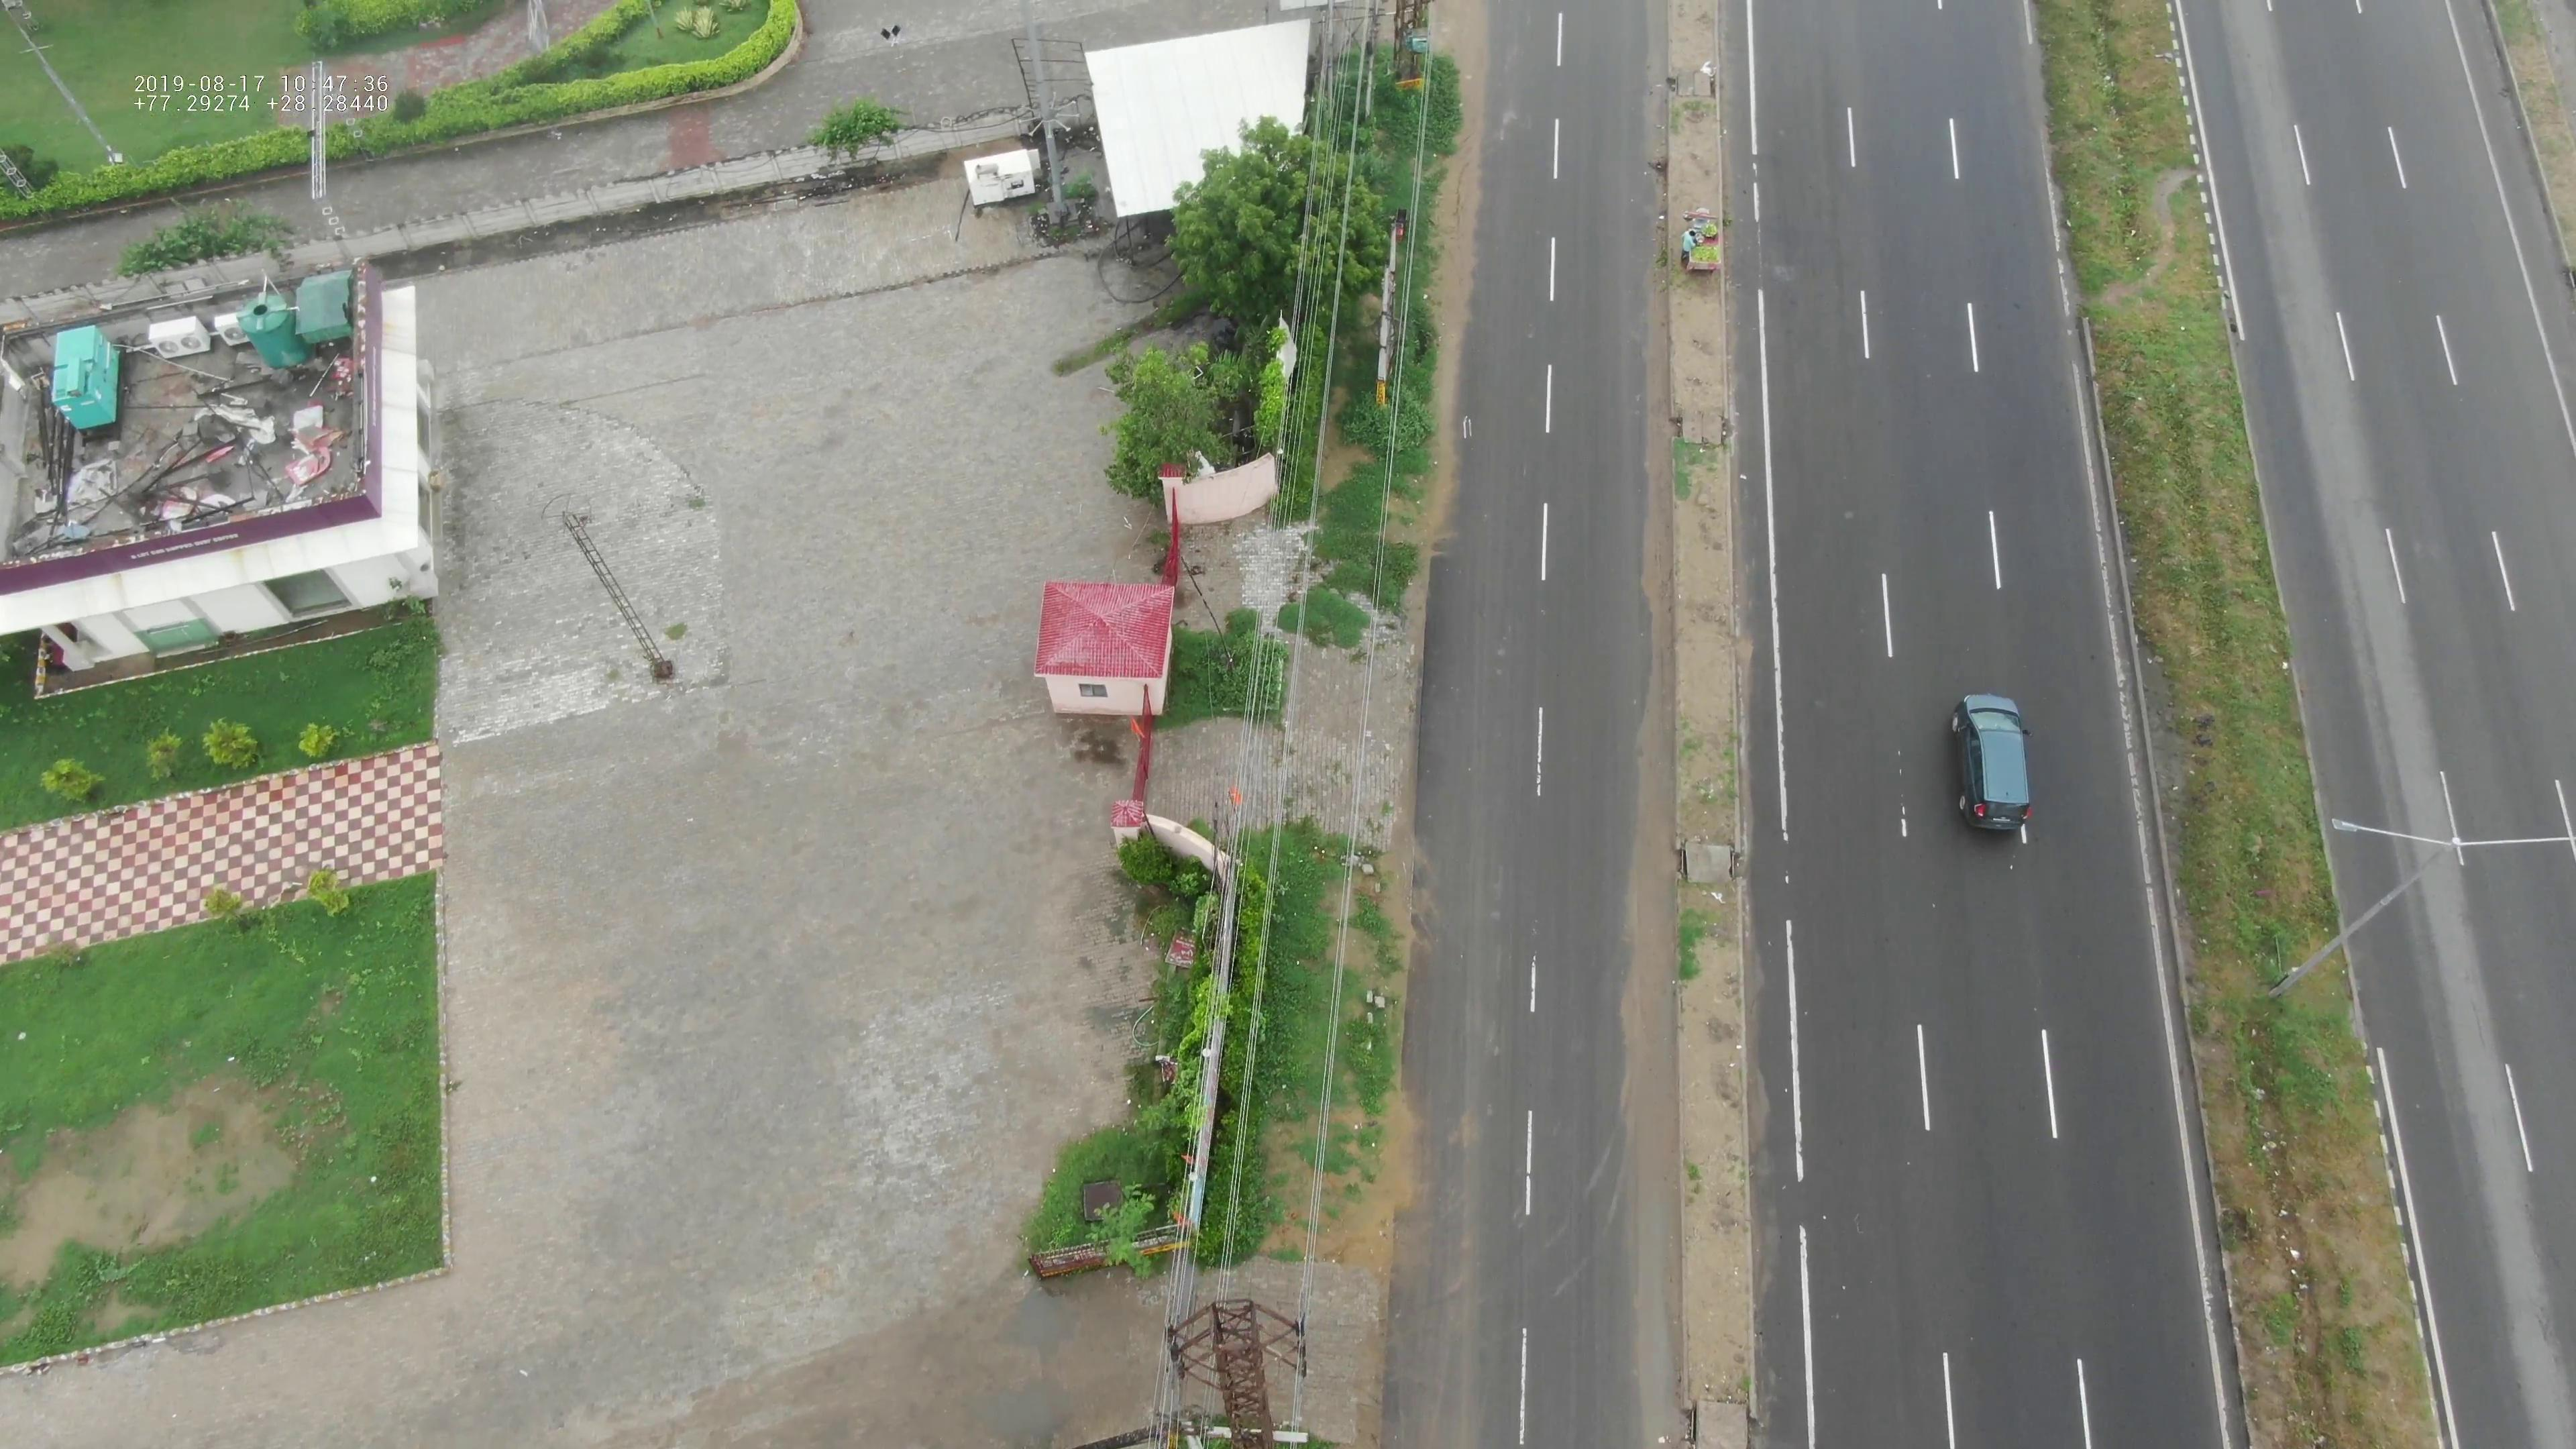Muddy_road: (1640, 472, 1674, 780), (1633, 899, 1672, 1095)
